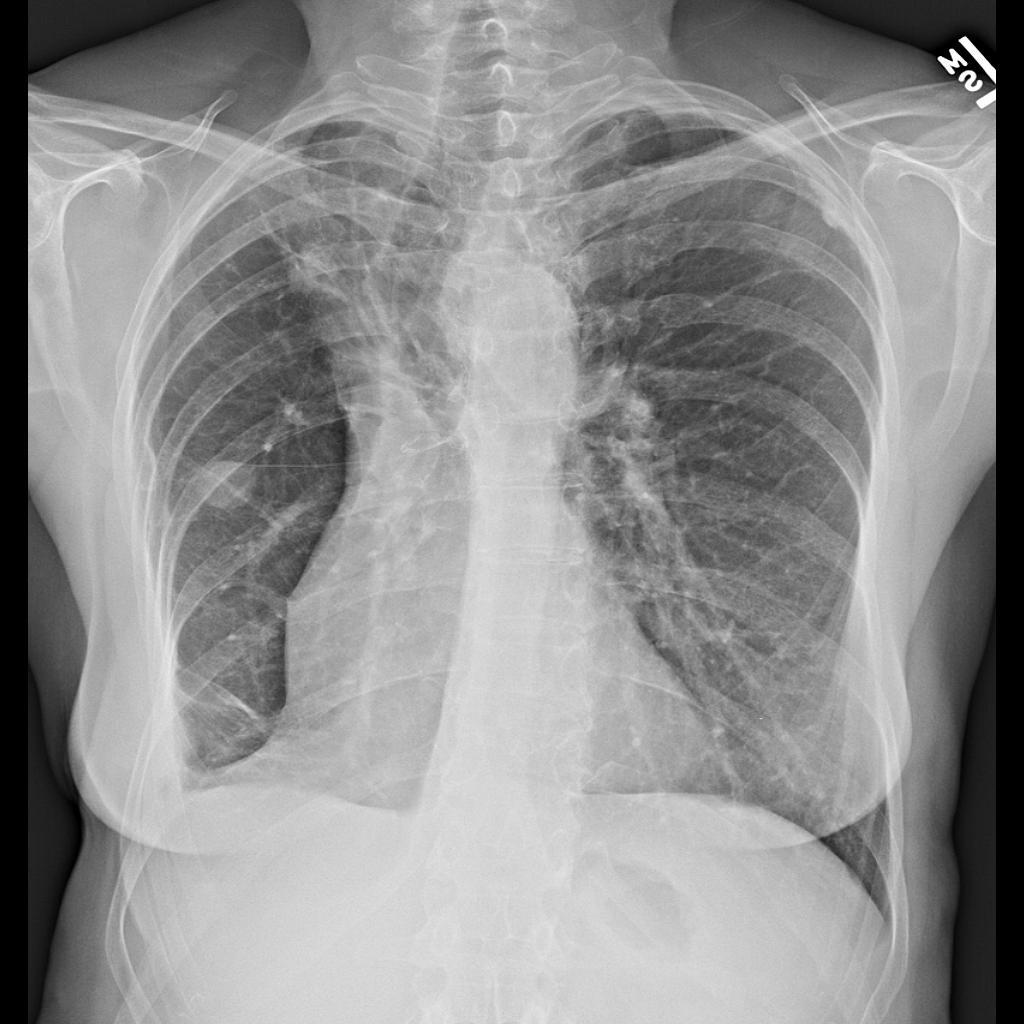Nodule: (196, 456, 249, 514), (286, 247, 346, 295)
